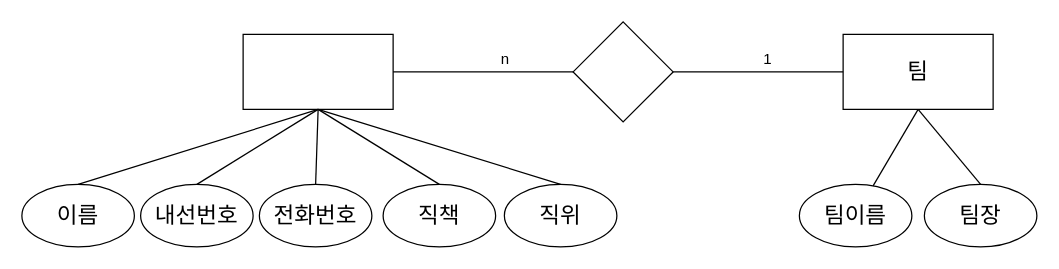
Image size: 1059x269. Some labels were removed from this diagram. The box of each missing label's shape, as (x1, y1, x2, y2) in pixels:
가입한다: (572, 21, 673, 122)
회원: (242, 33, 393, 109)
